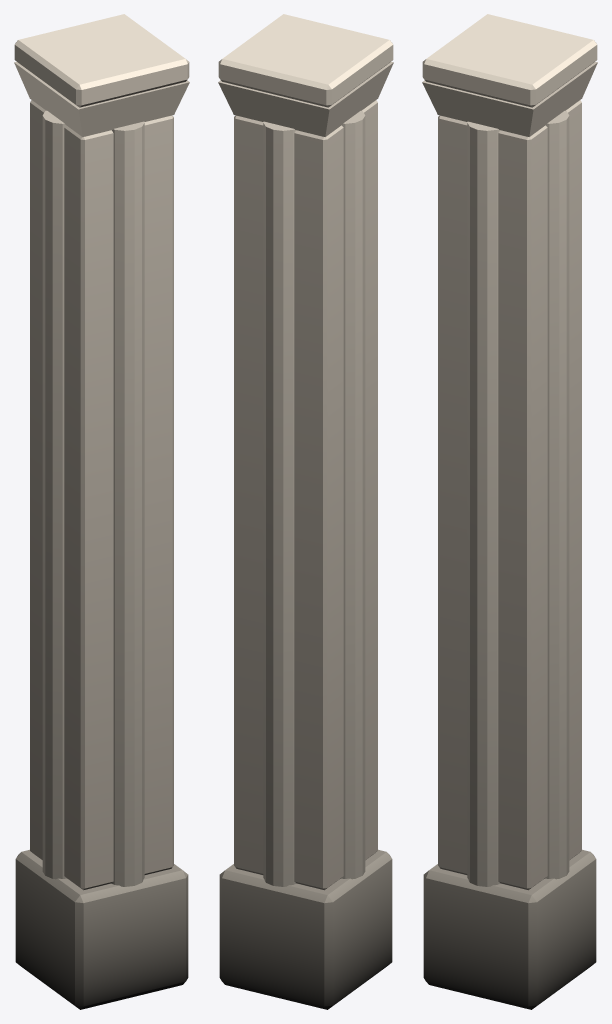
The model's file is SM_VKI_Post_Ashlar_Corner_Full.fbx.
The picture shows the model from 3 angles, left to right: view 1: azimuth 30°, elevation 25°; view 2: azimuth 150°, elevation 25°; view 3: azimuth 330°, elevation 25°; orthographic projection.
Parts seen in each view (by area): view 1: SM_VKI_Post_Ashlar_Corner_Full.001; view 2: SM_VKI_Post_Ashlar_Corner_Full.001; view 3: SM_VKI_Post_Ashlar_Corner_Full.001.
Boxes of the visible parts, <box> form: SM_VKI_Post_Ashlar_Corner_Full.001: <box>14,14,189,1009</box>; SM_VKI_Post_Ashlar_Corner_Full.001: <box>218,14,393,1009</box>; SM_VKI_Post_Ashlar_Corner_Full.001: <box>422,14,597,1009</box>.
Bounding box in the file's own units: 0.62 × 4.84 × 0.62.
